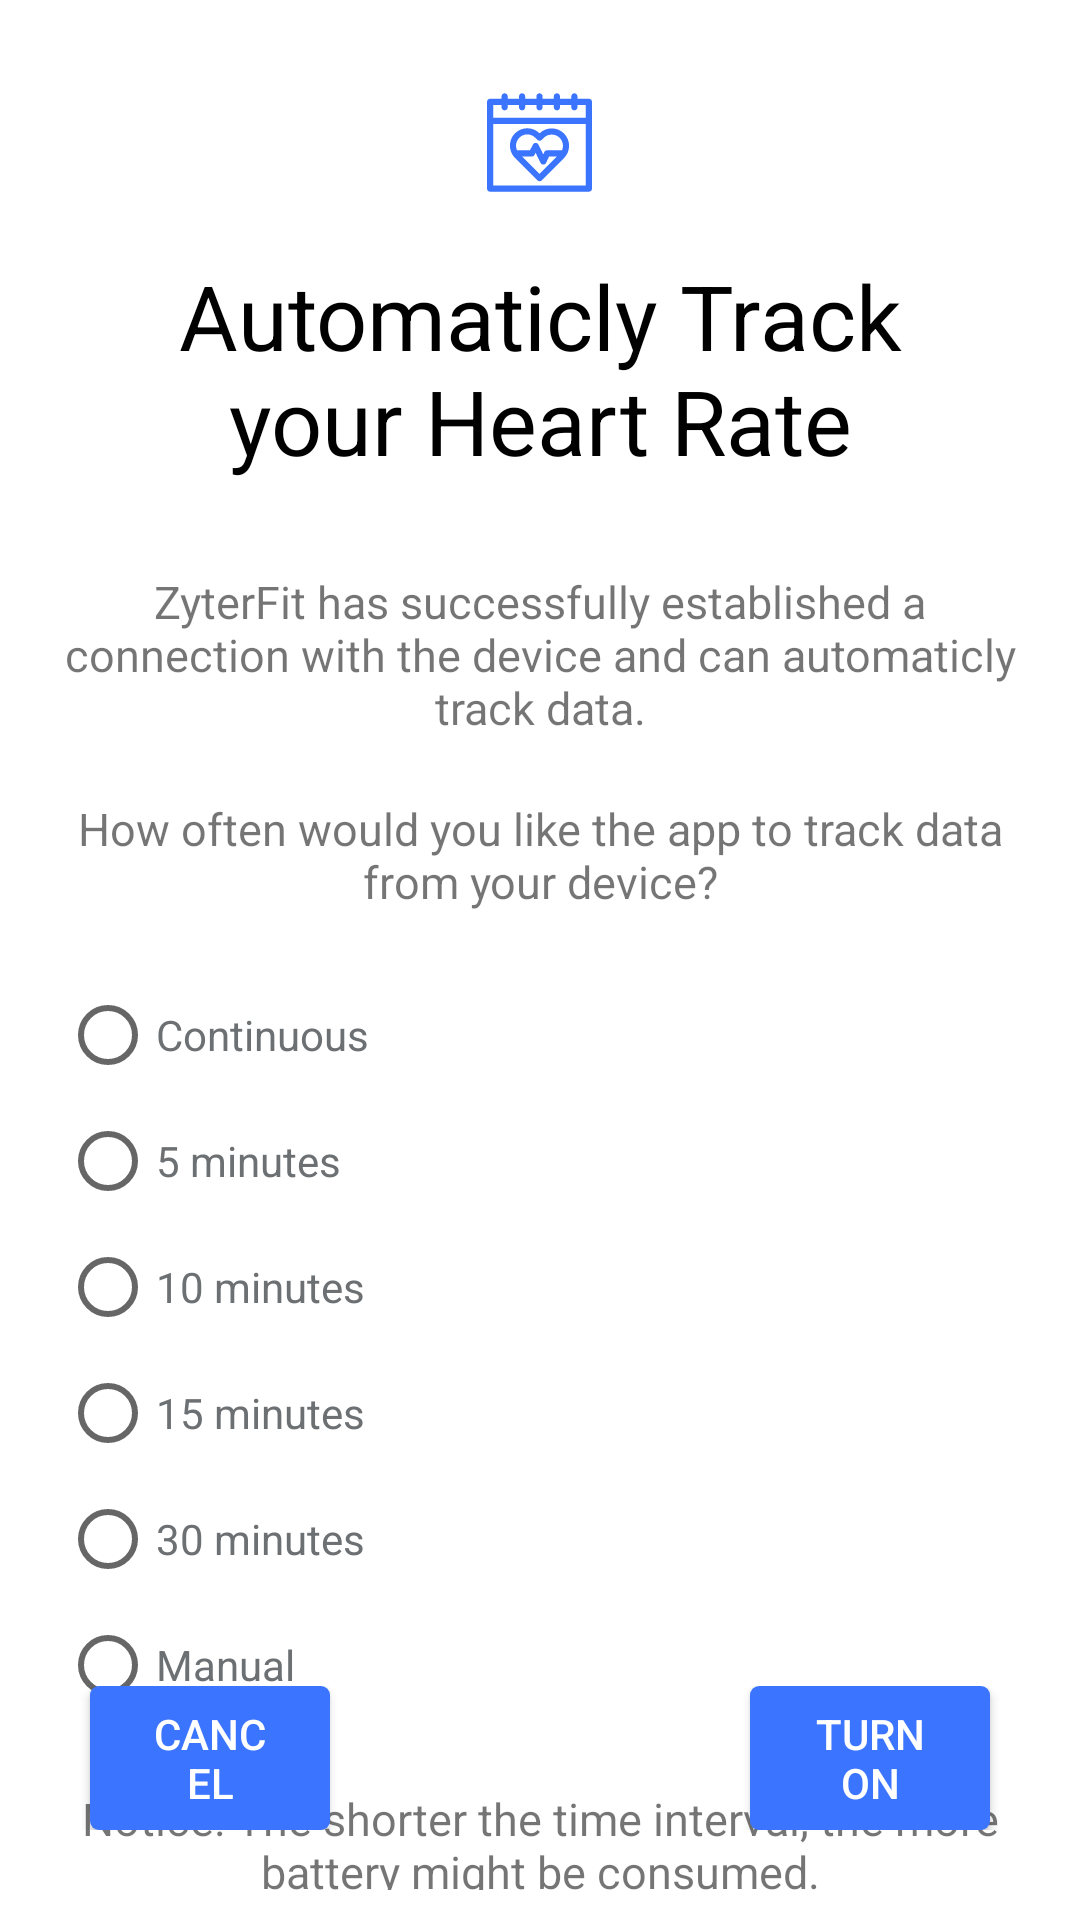

Where to tap for icons on this 1080 x 1920 app screen, as [x,y]:
calendar heart: [539,142]
